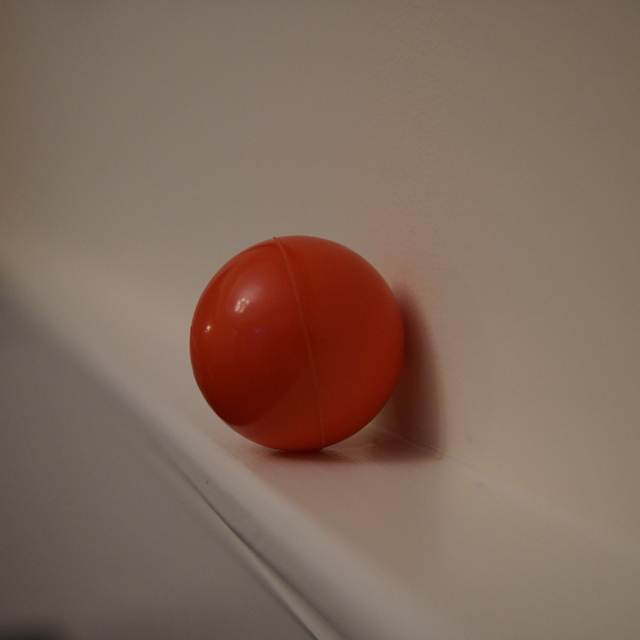Ball: (183, 239, 405, 447)
